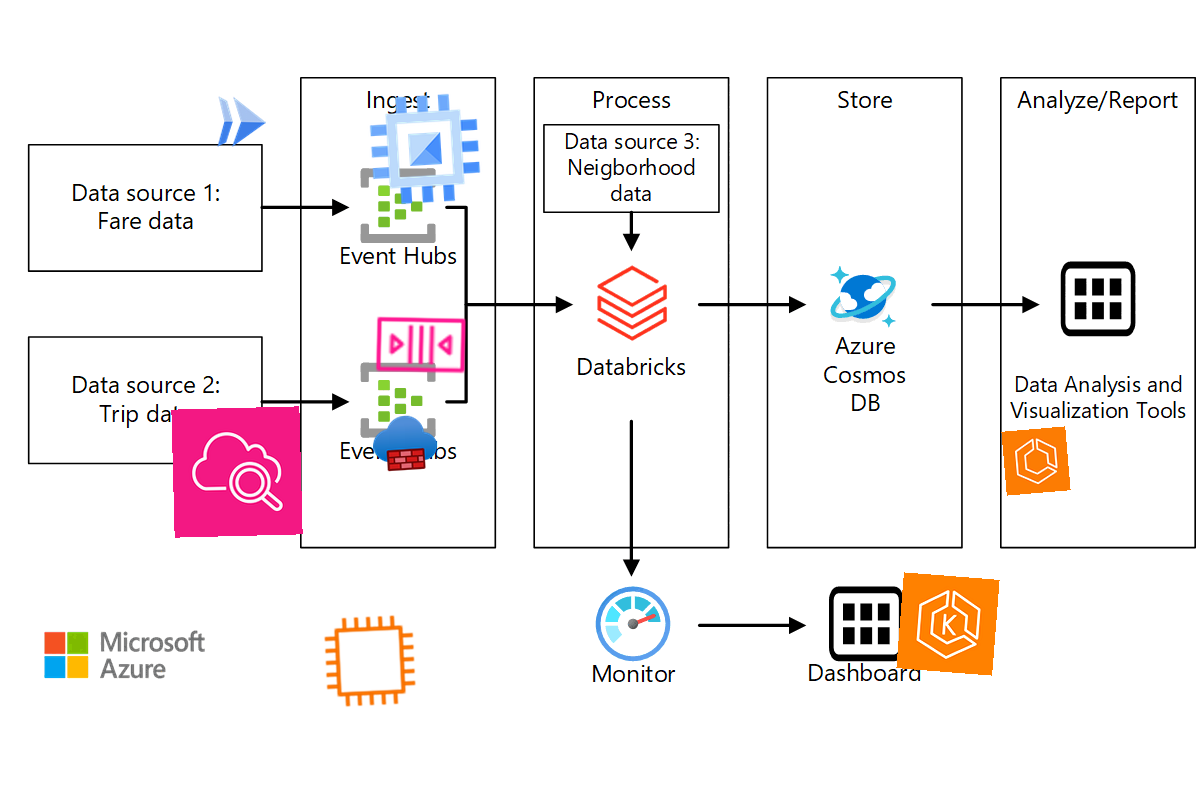aws_amazon_cloudwatch: (171, 406, 303, 538)
aws_amazon_elastic_container_service: (1001, 426, 1071, 496)
aws_amazon_elastic_kubernetes_service: (896, 572, 1000, 676)
aws_ec2_instance: (319, 610, 421, 712)
aws_simple_queue_service_queue: (371, 294, 471, 394)
azure_firewalls: (371, 409, 439, 477)
gcp_cloud_run: (208, 89, 274, 155)
gcp_compute_engine: (357, 81, 493, 217)
